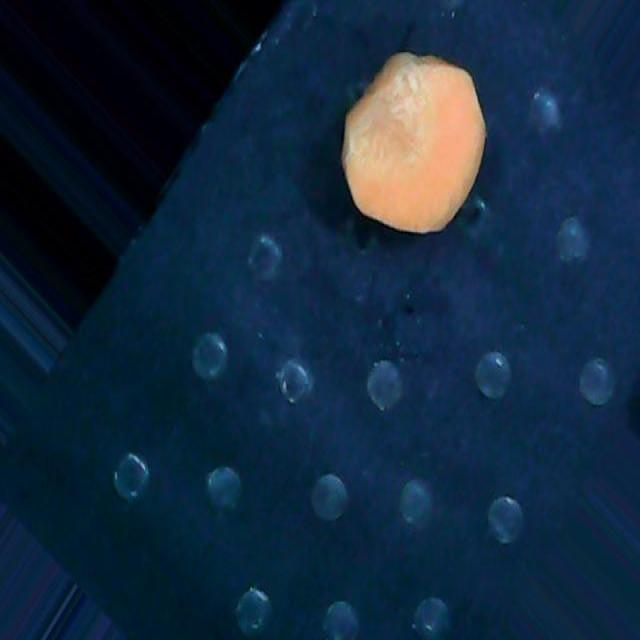-Kitchen waste - carrot-: (328, 25, 508, 264)
